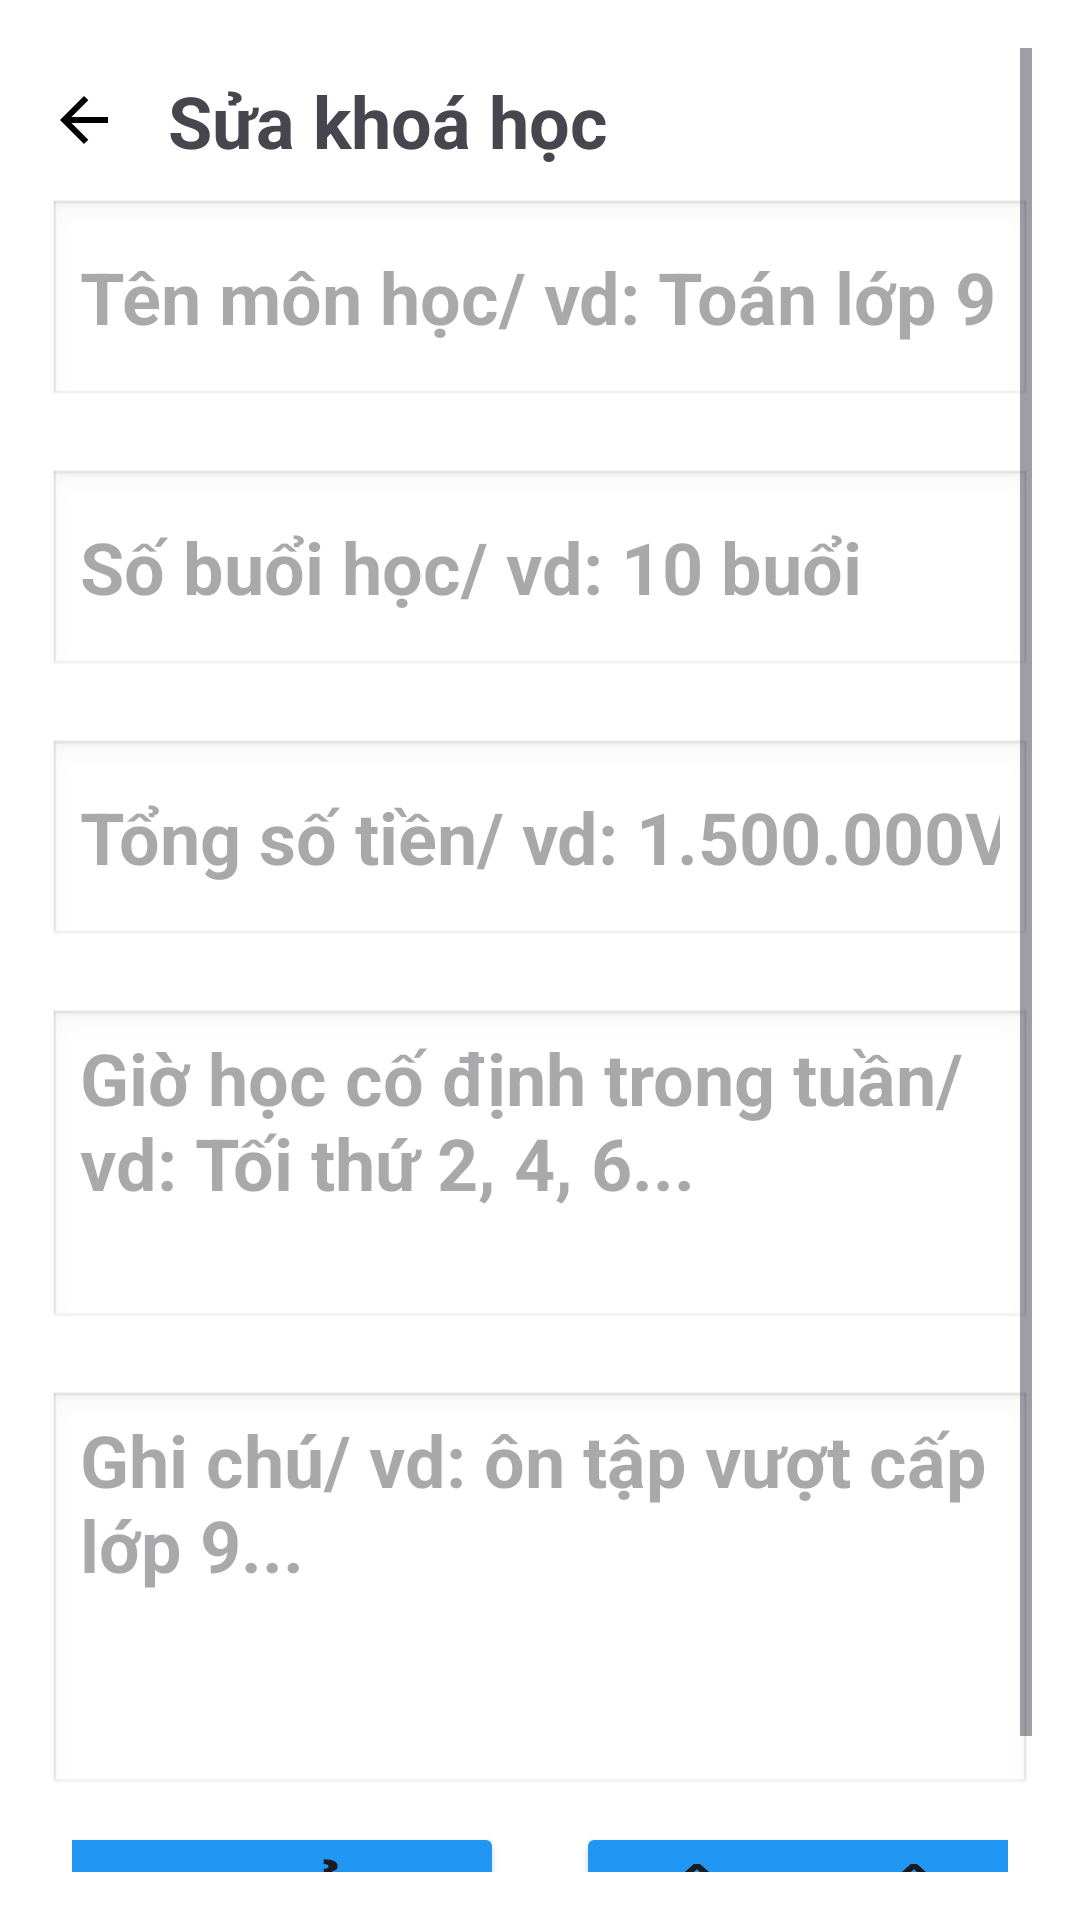

Named icons in this screenshot (1080 × 1920) and their centers, [x,y]:
Quay lại: [84,120]
